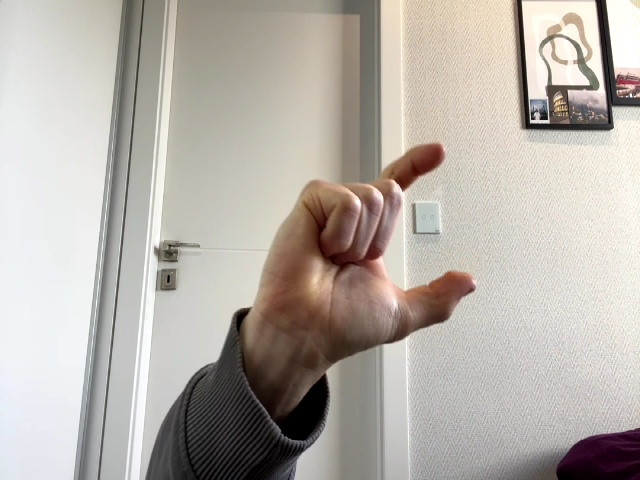C: (257, 144, 476, 367)
